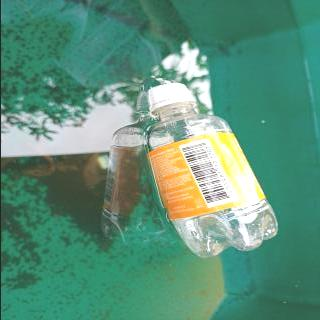bottle: (141, 79, 280, 257)
